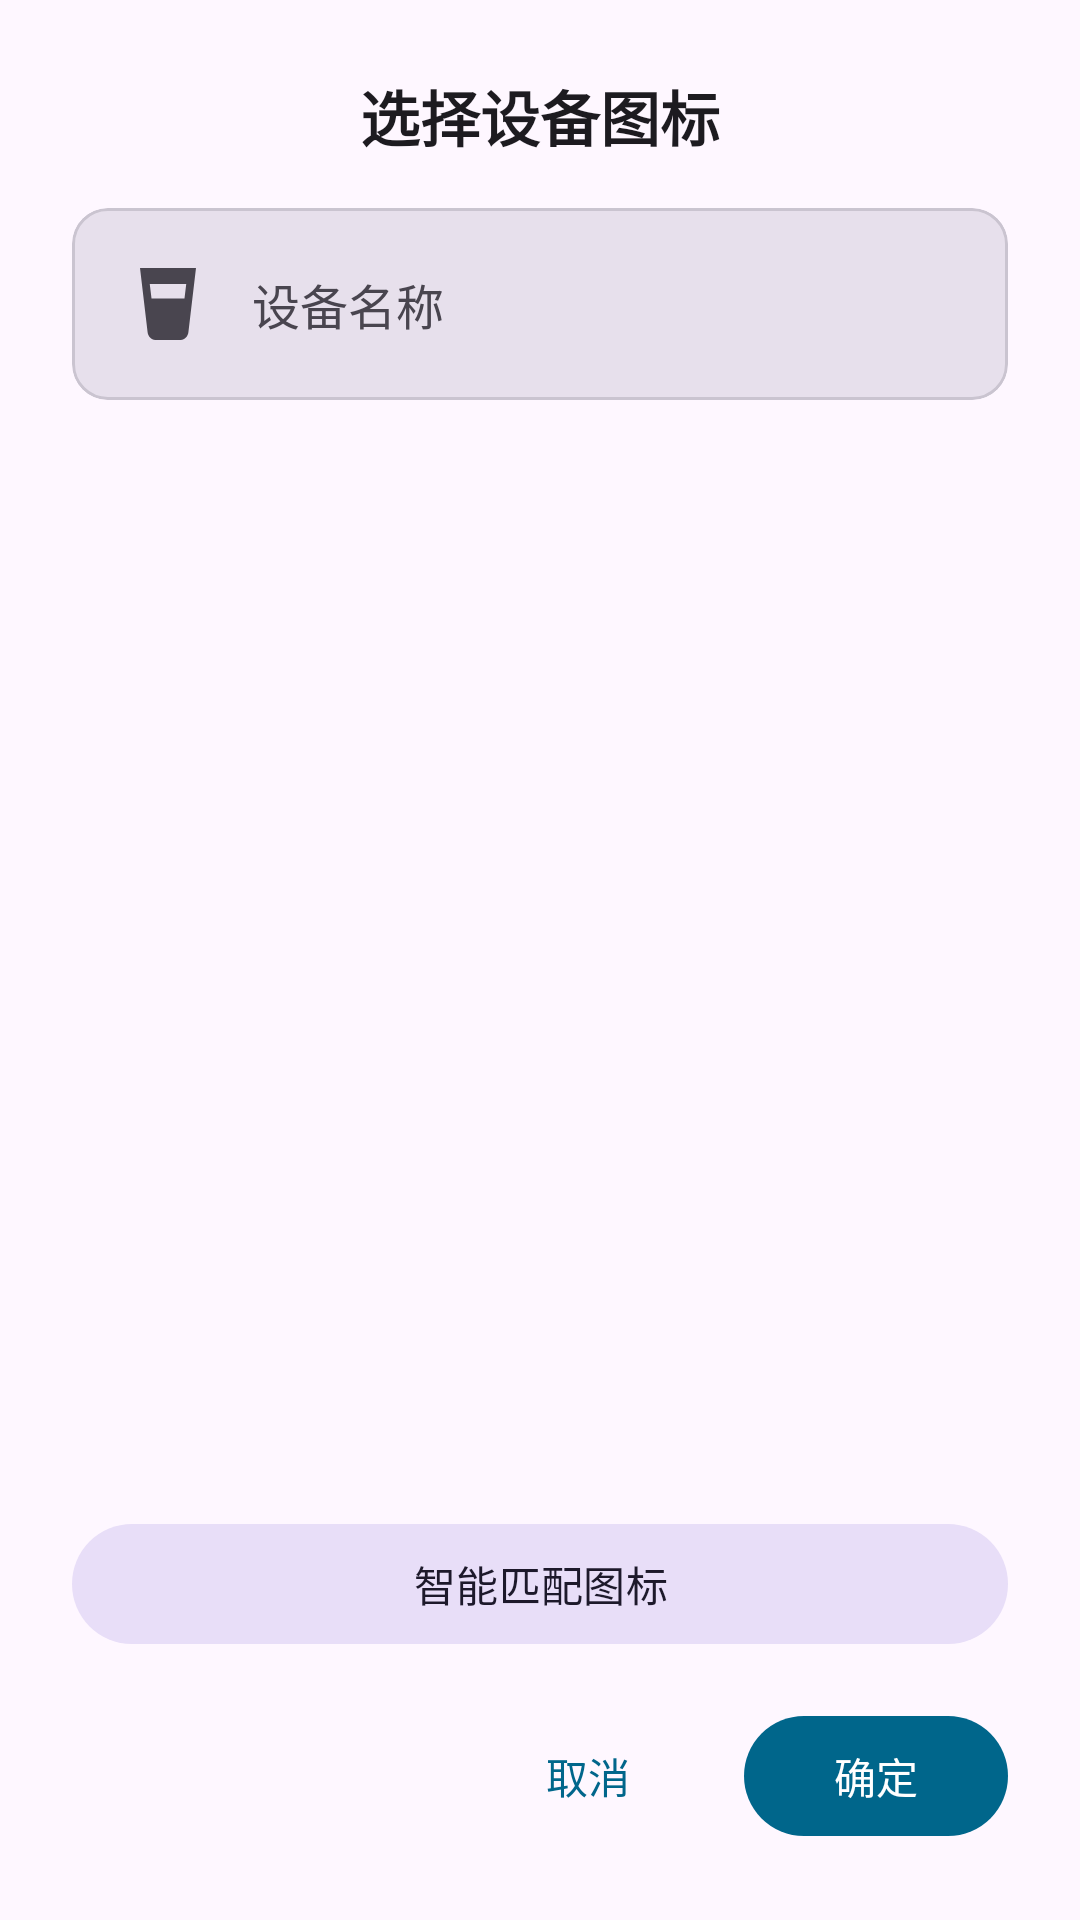

Named icons in this screenshot (1080w x 1920h) and their bounding boxes, (left=x1, top=y1, right=x2, bottom=y2):
device water dispenser: (left=140, top=268, right=196, bottom=340)
